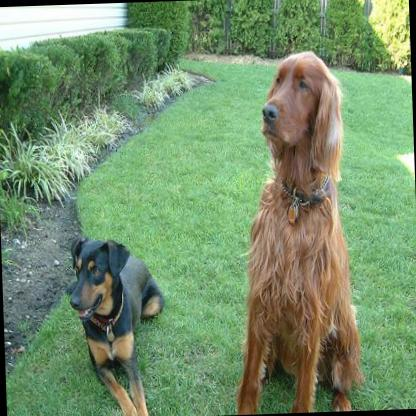Irish_setter: (220, 47, 364, 413)
